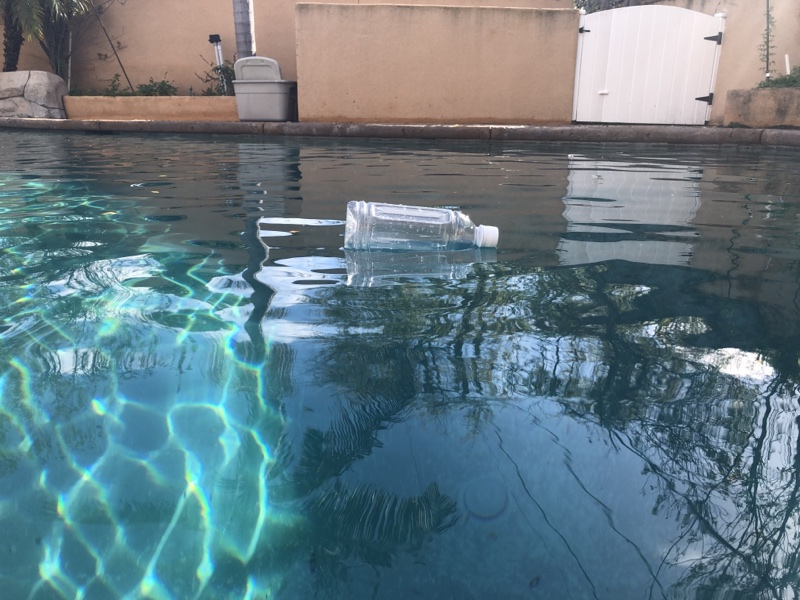Plastic Bottle: (342, 196, 501, 260)
